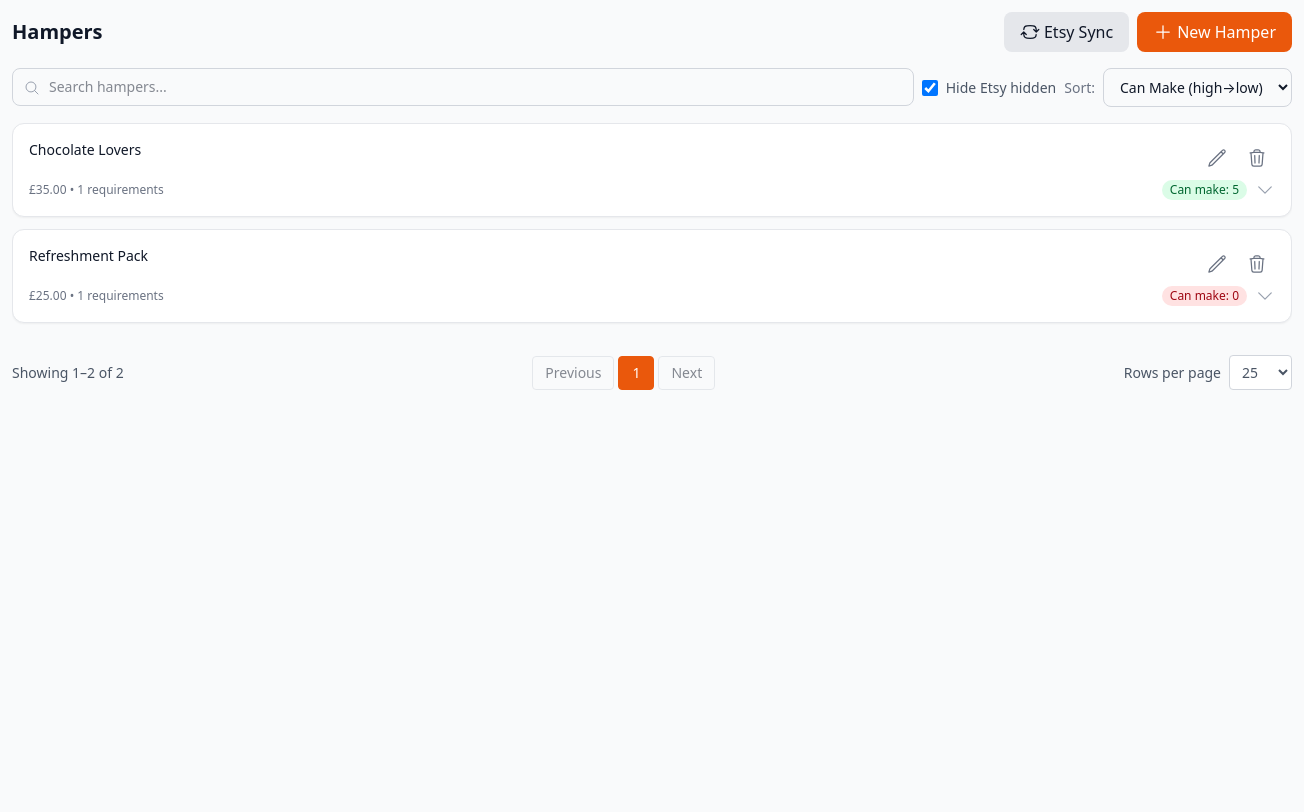
Test: Hampers › hamper expansion › shows hamper details when expanded
expect the text "Chocolate Lovers" is shown: met, box [29, 140, 141, 160]
Click the button "Chocolate Lovers": (85, 150) [29, 140, 1191, 160]
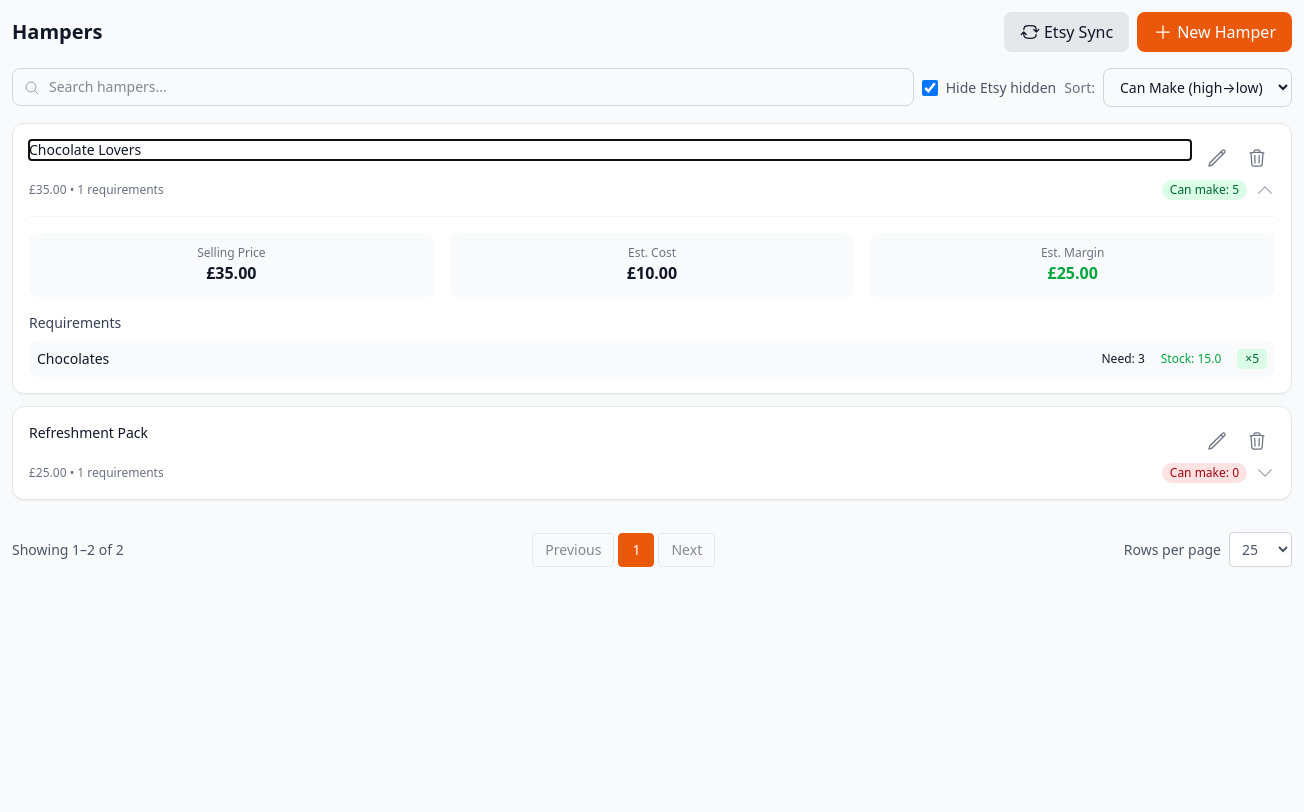
expect the text "Selling Price" is shown: met, box [197, 244, 266, 261]
expect the text "Est. Cost" is shown: met, box [628, 244, 676, 261]
expect the text "Est. Margin" is shown: met, box [1041, 244, 1104, 261]
